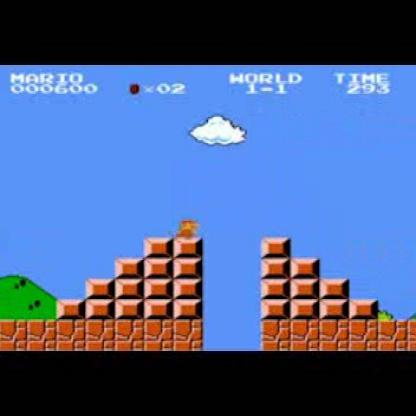Hoyo: (197, 322, 273, 350)
